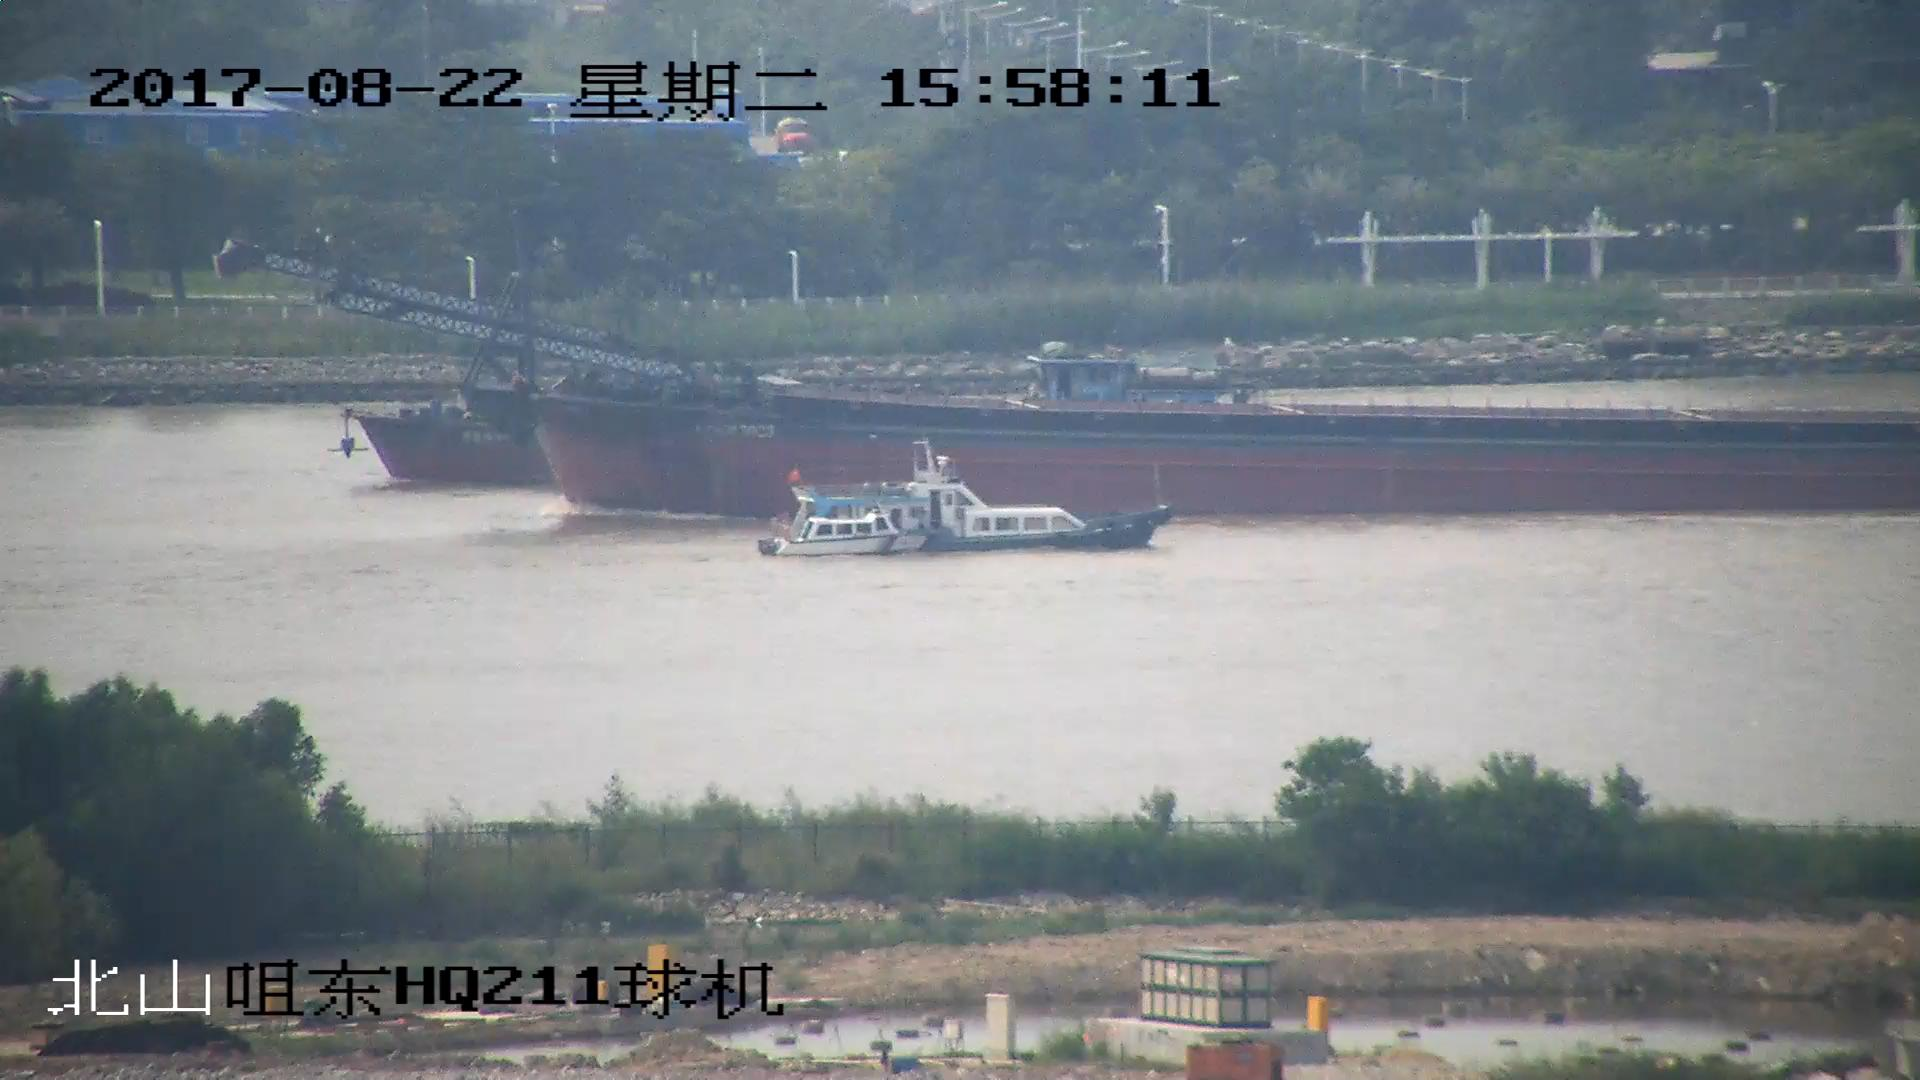bulk cargo carrier: (216, 246, 1920, 522), (342, 403, 557, 484)
fishing boat: (755, 444, 1163, 561)
